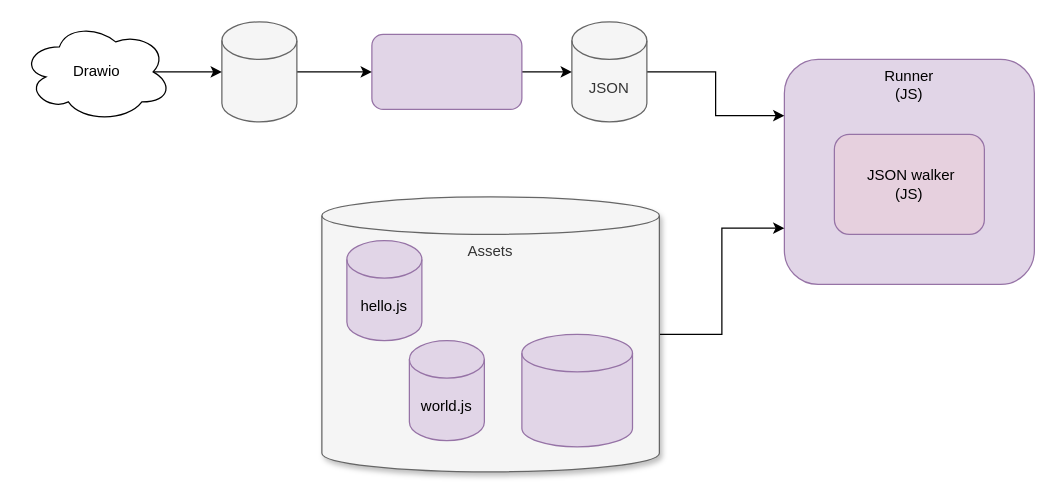
The diagram is 1056 pixels wide and 503 high, and some of its shapes have lost their labels. Each missing label, with the centre of its shape:
string_join.js: the point at 576,390
SVG: the point at 259,71
Transpiler (svg2json.bash): the point at 446,71
